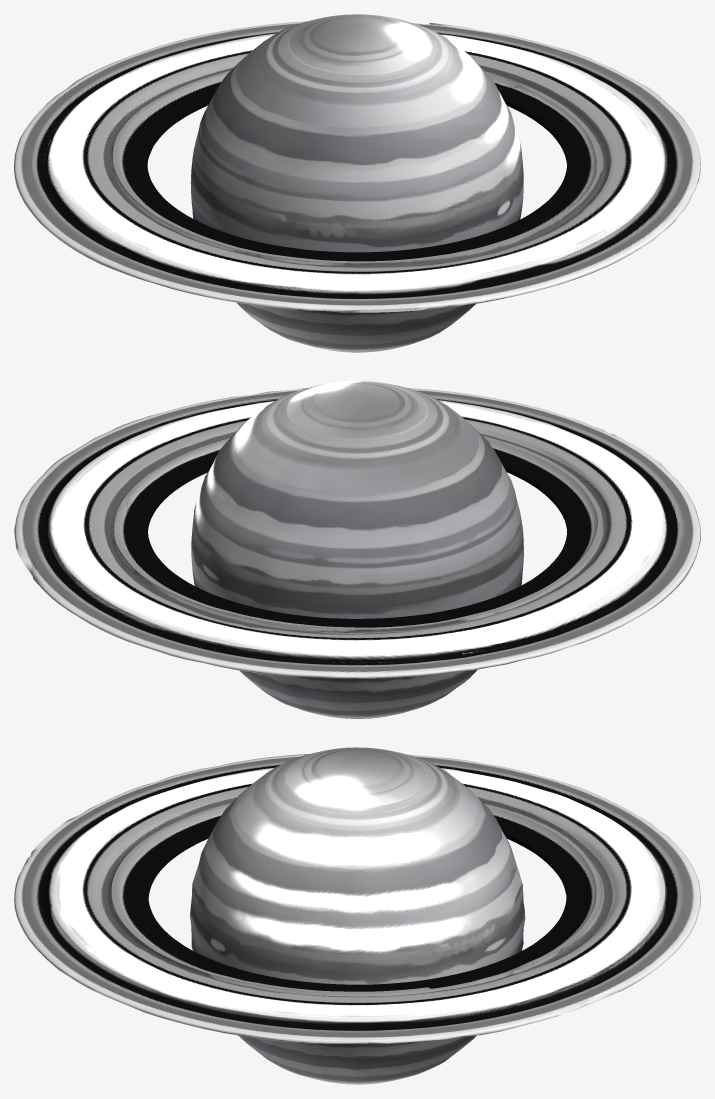
The model's file is Meshy_AI_Silvery_Ringed_Planet_0520072027_texture.glb.
3 views of the same model, one above another, from view 1: azimuth 30°, elevation 25°; view 2: azimuth 150°, elevation 25°; view 3: azimuth 270°, elevation 25° (orthographic).
Visible parts, largest first — view 1: Mesh_0; view 2: Mesh_0; view 3: Mesh_0.
Boxes of the visible parts, <box> form: Mesh_0: <box>14,14,700,352</box>; Mesh_0: <box>14,381,700,718</box>; Mesh_0: <box>14,747,700,1084</box>.
Bounding box in the file's own units: 1.91 × 0.9388 × 1.91.
1 material, 1 textured.
